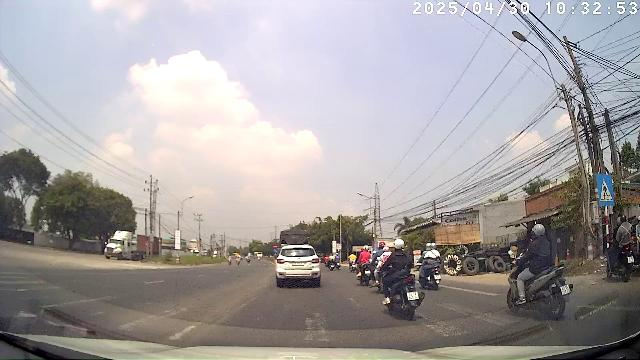423a-duong-nguoi-di-bo-sang-ngang-1: (598, 174, 614, 206)
